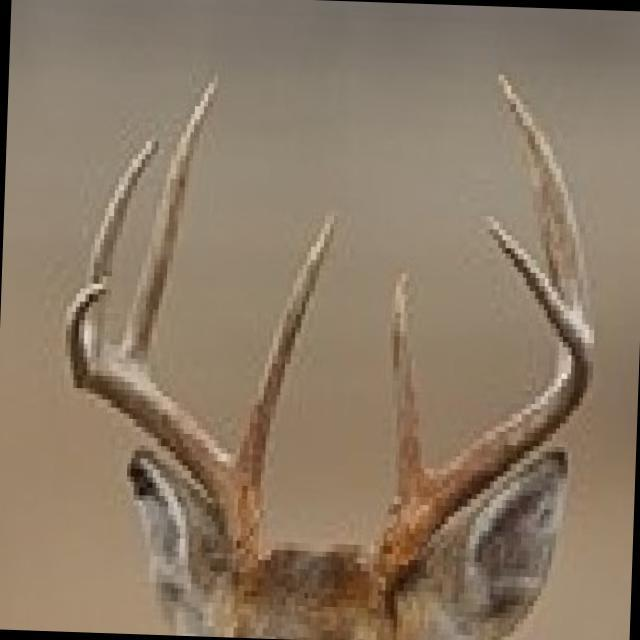L-F: (363, 216, 594, 618)
L-G1: (390, 271, 424, 515)
R-F: (63, 280, 266, 573)
R-G1: (237, 213, 334, 491)
R-G2: (120, 73, 220, 369)
